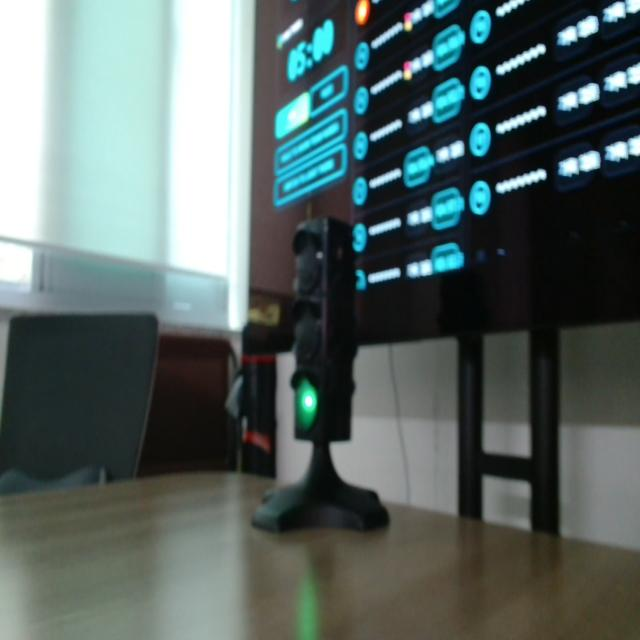green_light: (296, 380, 317, 430)
